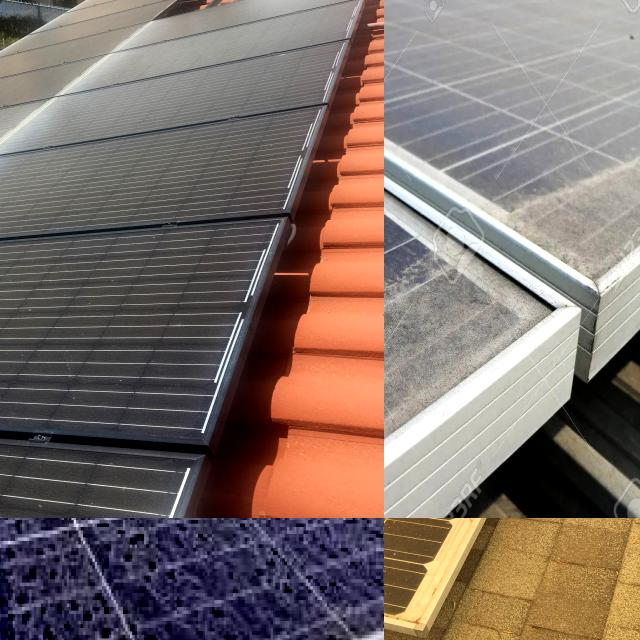dust: (384, 200, 537, 385), (401, 0, 554, 157), (0, 327, 224, 424), (225, 520, 384, 626), (384, 140, 482, 279), (384, 414, 504, 517), (0, 520, 88, 640), (8, 518, 167, 584), (201, 518, 384, 571), (122, 518, 200, 640), (590, 79, 640, 269), (210, 518, 384, 569), (0, 474, 185, 518), (11, 518, 192, 554), (0, 331, 78, 402), (0, 518, 63, 601), (384, 0, 502, 43), (0, 518, 37, 628), (0, 453, 56, 518), (0, 518, 35, 622), (0, 518, 65, 574), (384, 0, 522, 20), (0, 560, 33, 640)
